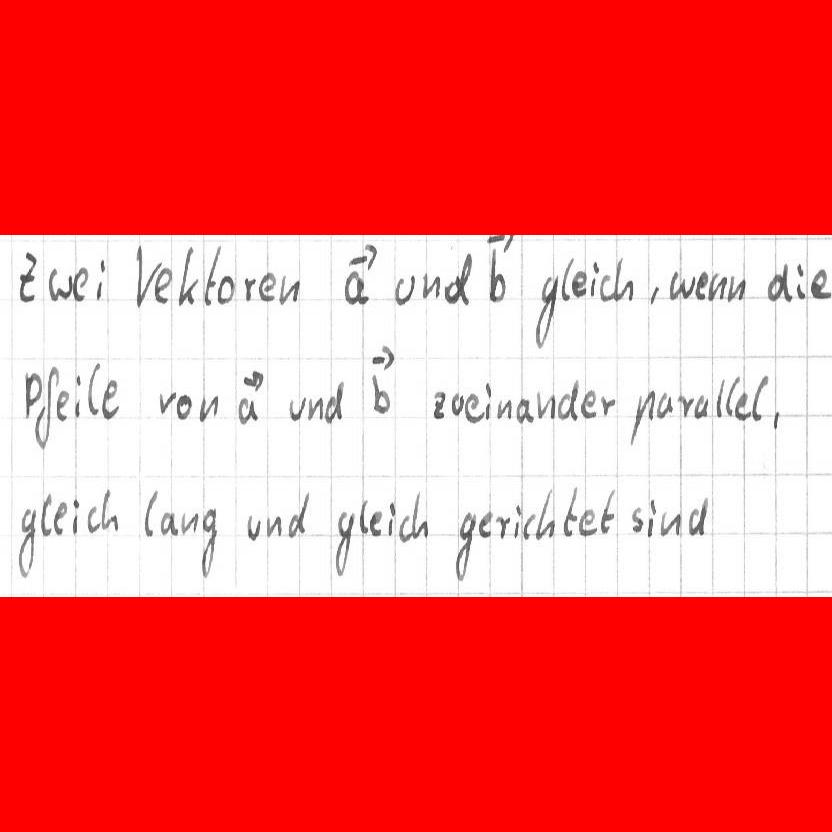Char: (33, 364, 60, 451), (535, 271, 559, 351), (480, 238, 508, 303), (453, 509, 477, 583), (443, 251, 475, 304), (628, 389, 655, 449), (16, 504, 36, 578), (236, 370, 263, 424), (133, 241, 153, 311), (333, 509, 354, 575), (178, 243, 199, 308), (200, 504, 218, 578), (16, 247, 37, 304), (202, 246, 220, 306), (341, 269, 371, 305), (23, 368, 43, 422), (288, 489, 309, 539), (537, 487, 556, 540), (369, 369, 391, 414), (749, 374, 769, 422), (346, 242, 378, 272), (687, 496, 709, 539), (767, 262, 790, 303), (369, 341, 398, 373), (557, 376, 578, 420), (614, 257, 634, 303), (561, 485, 578, 539), (325, 377, 343, 425), (153, 264, 173, 305), (48, 266, 70, 303), (669, 269, 695, 300), (142, 488, 158, 537), (599, 490, 616, 536), (394, 273, 416, 307), (559, 255, 575, 301), (411, 491, 426, 540), (101, 375, 118, 418), (278, 272, 300, 305), (87, 362, 100, 417), (483, 232, 515, 254), (215, 272, 236, 305), (197, 392, 219, 422), (658, 510, 681, 538), (72, 266, 90, 301), (725, 374, 740, 416), (39, 491, 52, 538), (706, 272, 727, 301), (101, 494, 117, 531), (726, 275, 746, 303), (422, 272, 442, 300), (258, 271, 276, 302), (810, 269, 828, 299), (55, 383, 68, 424), (465, 392, 482, 423), (516, 394, 534, 423), (179, 511, 199, 537), (95, 257, 107, 300), (734, 391, 751, 421), (245, 512, 262, 542), (656, 390, 674, 418), (288, 396, 307, 422), (579, 509, 597, 536), (54, 498, 67, 535), (478, 510, 494, 540), (598, 273, 614, 303), (569, 270, 586, 298), (159, 511, 177, 537), (267, 512, 285, 538), (582, 389, 598, 418), (175, 393, 192, 420), (537, 392, 554, 419), (794, 262, 806, 300), (431, 390, 446, 420), (629, 505, 644, 535), (496, 396, 514, 421), (73, 370, 83, 415), (397, 514, 412, 544), (307, 396, 324, 422), (369, 508, 384, 537), (483, 382, 494, 421), (693, 394, 710, 419), (86, 506, 101, 534), (521, 512, 537, 538), (359, 497, 369, 538), (715, 377, 725, 418), (157, 390, 174, 414), (695, 271, 709, 300), (450, 391, 464, 419), (646, 497, 656, 536), (589, 260, 599, 298), (599, 394, 616, 416), (72, 498, 82, 535), (510, 505, 521, 538), (678, 392, 692, 417), (244, 276, 258, 301), (386, 501, 395, 539), (494, 517, 509, 539), (646, 282, 661, 303), (769, 408, 782, 431)
